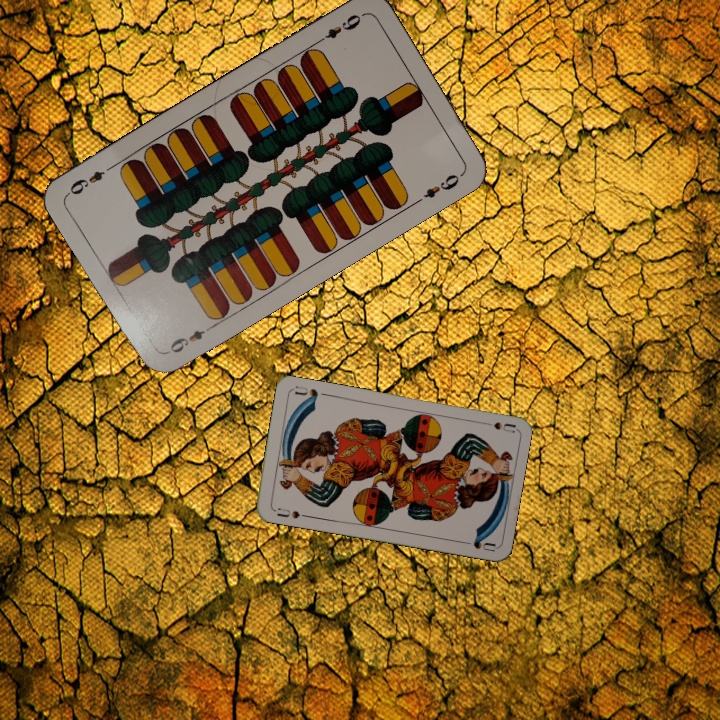E9: (313, 9, 366, 46), (162, 321, 216, 356)
SU: (476, 418, 517, 435), (273, 504, 310, 521)
